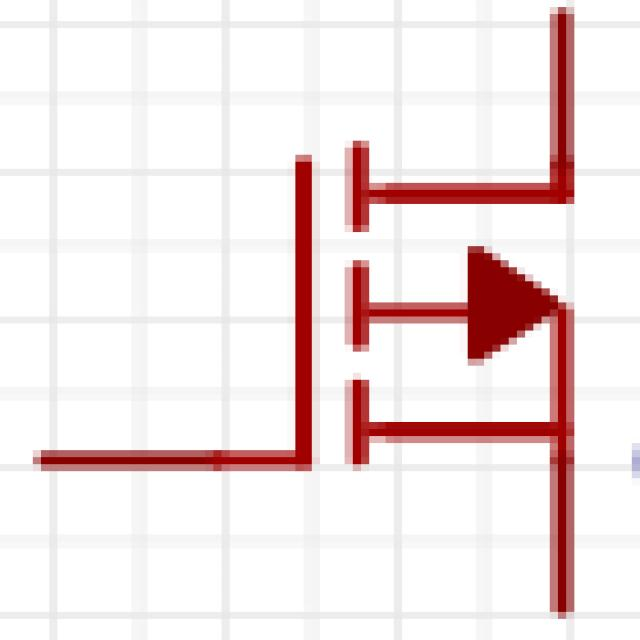pmos: (35, 16, 640, 610)
